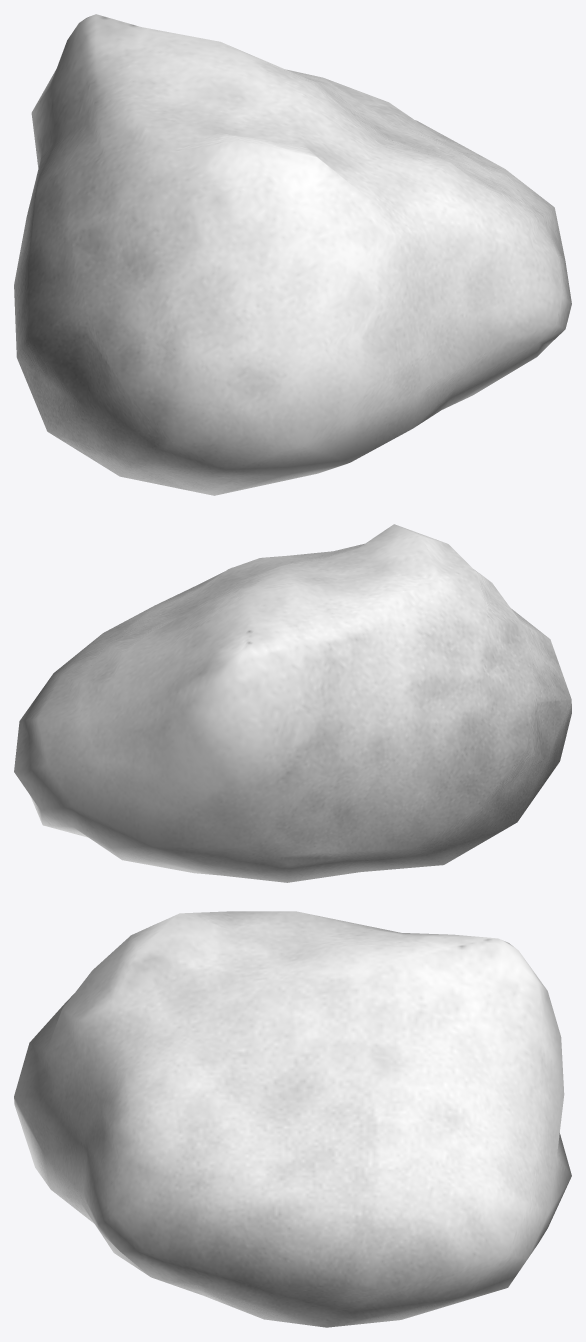
The model's file is Rock-7.fbx.
The picture shows the model from 3 angles, top to bottom: view 1: azimuth 30°, elevation 25°; view 2: azimuth 150°, elevation 25°; view 3: azimuth 270°, elevation 25°; orthographic projection. The views are drawn at different scales.
Visible parts, largest first — view 1: Cube.009; view 2: Cube.009; view 3: Cube.009.
Part boxes in pixels (<box>): Cube.009: <box>14,14,571,495</box>; Cube.009: <box>14,524,571,882</box>; Cube.009: <box>14,911,571,1327</box>.
Size of the model in its own units: 135 by 87.98 by 136.
